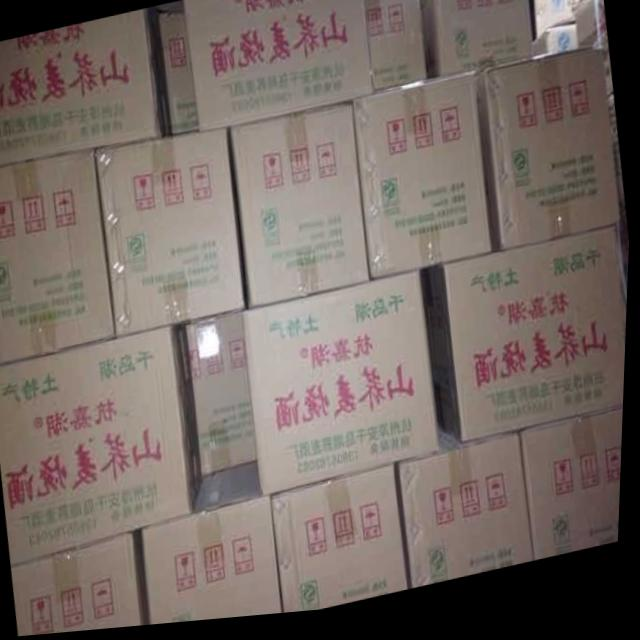box: (0, 331, 205, 565), (426, 238, 629, 452), (250, 278, 444, 500), (97, 132, 249, 339), (478, 57, 622, 258), (355, 81, 493, 290), (232, 104, 371, 311), (0, 11, 173, 167), (185, 0, 374, 136), (0, 152, 119, 367), (145, 468, 288, 628), (403, 439, 539, 597), (277, 473, 412, 619), (523, 421, 626, 571), (19, 536, 153, 637), (189, 317, 261, 482), (422, 0, 533, 86), (362, 0, 432, 92), (160, 11, 198, 139), (535, 0, 602, 48)
